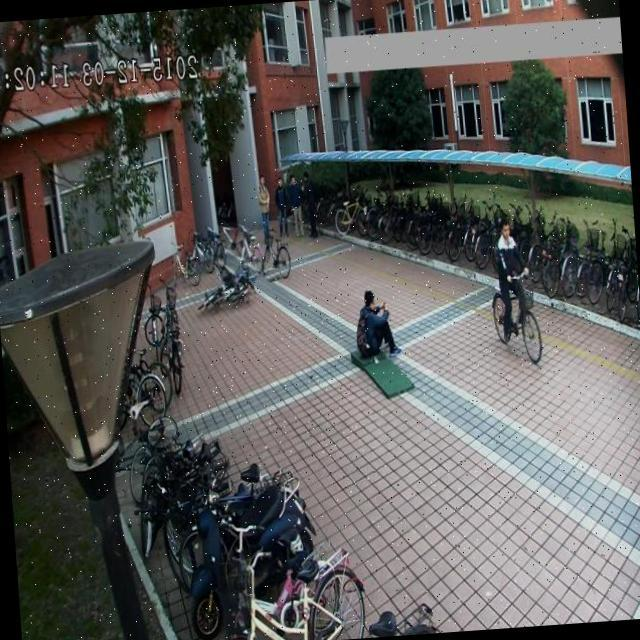person: (492, 214, 534, 338), (356, 279, 402, 363), (253, 172, 275, 251), (284, 171, 308, 239), (268, 174, 291, 240), (301, 164, 319, 238)
